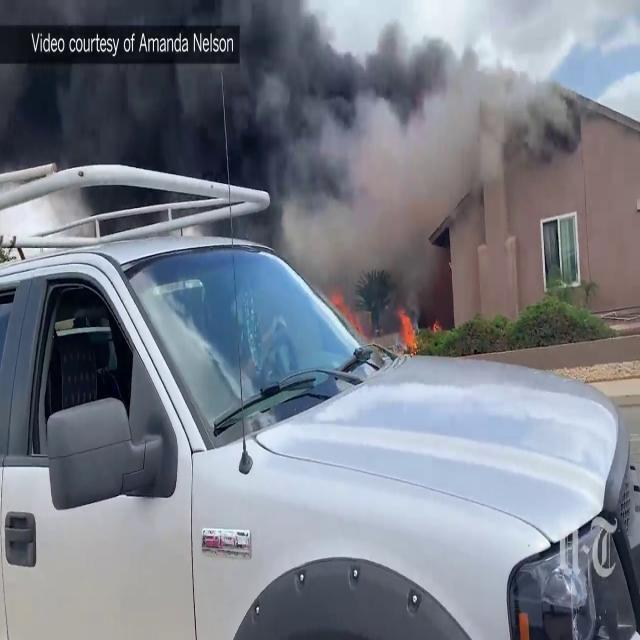Fire: (393, 303, 423, 356)
Smoke: (296, 0, 580, 308), (0, 0, 322, 196)
